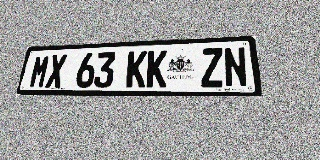3: (93, 52, 116, 88)
6: (75, 53, 98, 88)
K: (146, 50, 167, 88), (126, 51, 147, 88)
M: (28, 55, 51, 88)
N: (223, 47, 248, 87)
X: (45, 54, 68, 88)
Z: (201, 48, 224, 87)
